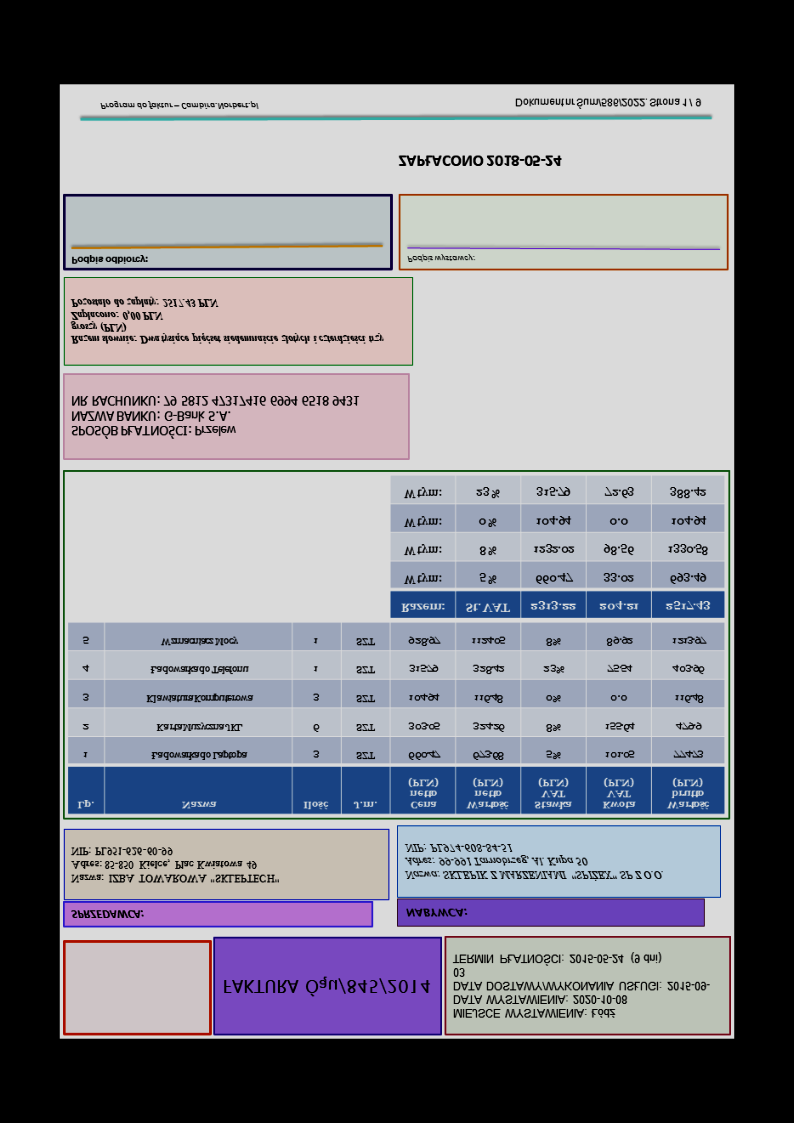Table: (66, 623, 723, 817), (389, 474, 726, 621)
TextBox: (450, 950, 712, 1023), (68, 296, 387, 349), (69, 390, 363, 442), (403, 842, 666, 884), (68, 842, 281, 888), (220, 973, 432, 1000), (397, 151, 564, 171), (512, 96, 701, 111), (98, 100, 259, 113), (405, 251, 475, 269), (69, 253, 151, 268), (70, 906, 145, 922), (402, 904, 469, 921)
